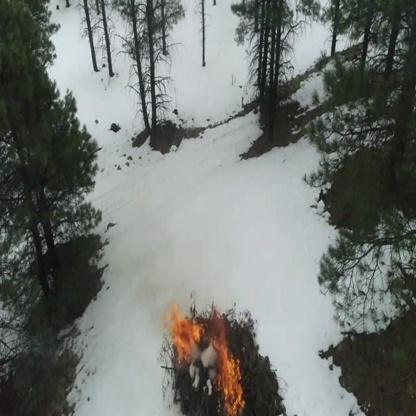Fire: (217, 343, 244, 416), (176, 321, 193, 360), (209, 321, 226, 342), (186, 326, 204, 342), (171, 305, 180, 331)
